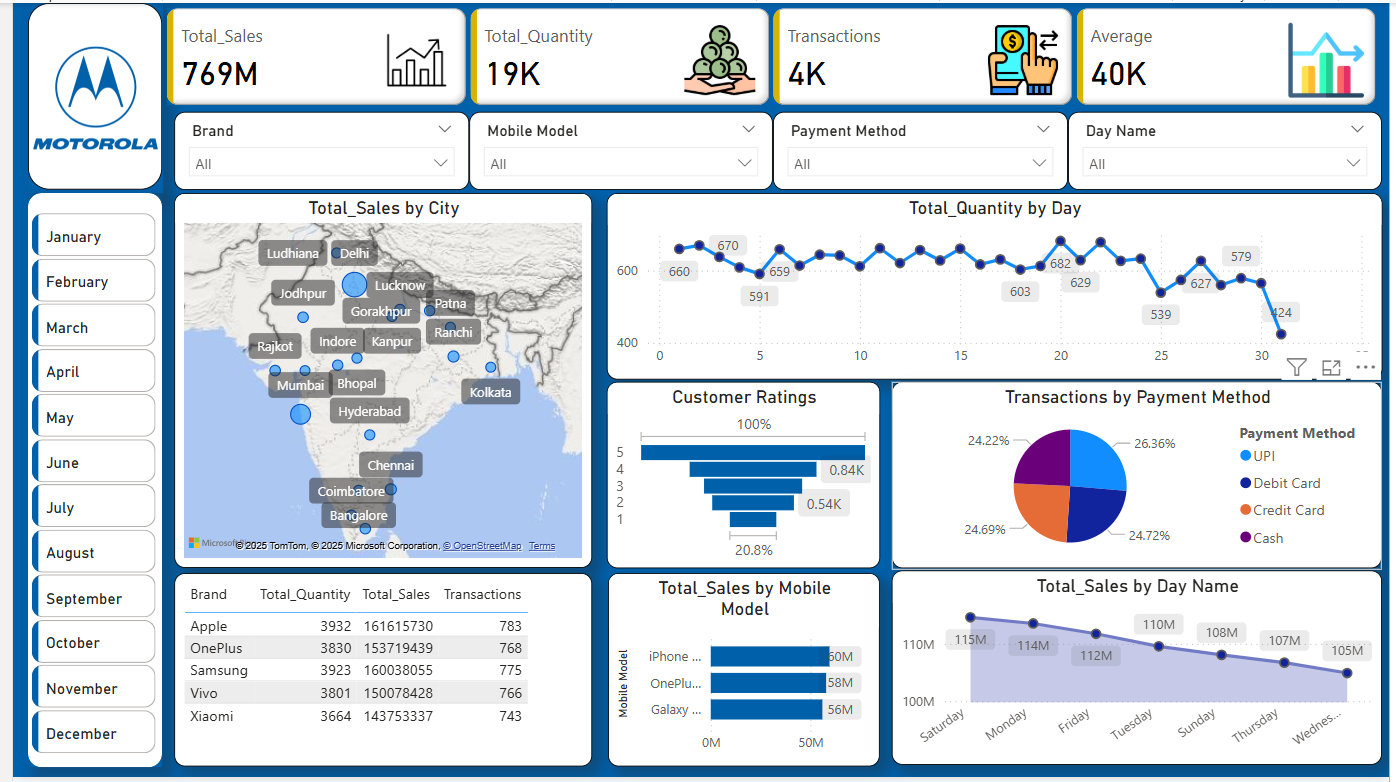

This screenshot's page, from the dashboard's own definition file:
{"tool":"powerbi","page":{"name":"Page 1","canvas":[1280,720],"ordinal":0},"visuals":[{"type":"shape","box":[13.5,0,124.7,173.6],"z":0},{"type":"image","box":[13.5,0,125.8,176.7],"z":1000},{"type":"shape","box":[13.5,176.7,124.7,534.2],"z":2000},{"type":"advancedSlicerVisual","fields":{"Values":["Sales_Data.Date.Variation.Date Hierarchy.Month"]},"box":[12.5,190.2,125.8,518.6],"z":3000},{"type":"cardVisual","fields":{"Data":["Sales_Data.Total_Sales","Sales_Data.Total_Quantity","Sales_Data.Transactions","Sales_Data.Average"]},"box":[138.7,0,1134.9,101],"z":4000},{"type":"map","fields":{"Category":["Sales_Data.City"],"Size":["Sales_Data.Total_Sales"]},"box":[149.7,176.7,388.7,349.2],"z":5000},{"type":"lineChart","fields":{"Category":["Sales_Data.Date.Variation.Date Hierarchy.Month","Sales_Data.Date.Variation.Date Hierarchy.Day"],"Y":["Sales_Data.Total_Quantity"]},"box":[551.9,176.7,721.3,173.6],"z":6000},{"type":"clusteredBarChart","fields":{"Category":["Sales_Data.Mobile Model"],"Y":["Sales_Data.Total_Sales"]},"box":[553.3,530.4,253.1,180.4],"z":7000},{"type":"pieChart","fields":{"Category":["Sales_Data.Payment Method"],"Y":["Sales_Data.Transactions"]},"box":[817.2,352.7,456.4,173.7],"z":8000},{"type":"funnel","title":"Customer Ratings","fields":{"Category":["Sales_Data.Customer Ratings"],"Y":["CountNonNull(Sales_Data.Customer Ratings)"]},"box":[552,352.7,254.4,173.7],"z":9000},{"type":"areaChart","fields":{"Category":["Sales_Data.Day Name"],"Y":["Sales_Data.Total_Sales"]},"box":[816.9,527.9,456.2,180.8],"z":10000},{"type":"tableEx","fields":{"Values":["Sales_Data.Brand","Sales_Data.Total_Quantity","Sales_Data.Total_Sales","Sales_Data.Transactions"]},"box":[149.4,530.4,389.1,180.4],"z":11000},{"type":"slicer","fields":{"Values":["Sales_Data.Brand"]},"box":[149.7,100.8,274.4,72.7],"z":12000},{"type":"slicer","fields":{"Values":["Sales_Data.Mobile Model"]},"box":[424,100.8,282.7,72.7],"z":13000},{"type":"slicer","fields":{"Values":["Sales_Data.Payment Method"]},"box":[706.7,100.8,274.4,72.7],"z":14000},{"type":"slicer","fields":{"Values":["Sales_Data.Day Name"]},"box":[981.1,100.8,292,72.7],"z":15000}]}

Visuals, with their boxes in screenshot pixels (x1, y1, x2, y2), scaled from the page's 1280x720 canvas onto the 1396x782 screenshot:
shape: <region>15, 0, 151, 189</region>
image: <region>15, 0, 152, 192</region>
shape: <region>15, 192, 151, 772</region>
advancedSlicerVisual - Sales_Data.Date.Variation.Date Hierarchy.Month: <region>14, 207, 151, 770</region>
cardVisual - Sales_Data.Total_Sales x Sales_Data.Total_Quantity: <region>151, 0, 1389, 110</region>
map - Sales_Data.City x Sales_Data.Total_Sales: <region>163, 192, 587, 571</region>
lineChart - Sales_Data.Date.Variation.Date Hierarchy.Month x Sales_Data.Date.Variation.Date Hierarchy.Day: <region>602, 192, 1389, 380</region>
clusteredBarChart - Sales_Data.Mobile Model x Sales_Data.Total_Sales: <region>603, 576, 879, 772</region>
pieChart - Sales_Data.Payment Method x Sales_Data.Transactions: <region>891, 383, 1389, 572</region>
"Customer Ratings" funnel: <region>602, 383, 879, 572</region>
areaChart - Sales_Data.Day Name x Sales_Data.Total_Sales: <region>891, 573, 1388, 770</region>
tableEx - Sales_Data.Brand x Sales_Data.Total_Quantity: <region>163, 576, 587, 772</region>
slicer - Sales_Data.Brand: <region>163, 109, 463, 188</region>
slicer - Sales_Data.Mobile Model: <region>462, 109, 771, 188</region>
slicer - Sales_Data.Payment Method: <region>771, 109, 1070, 188</region>
slicer - Sales_Data.Day Name: <region>1070, 109, 1388, 188</region>
